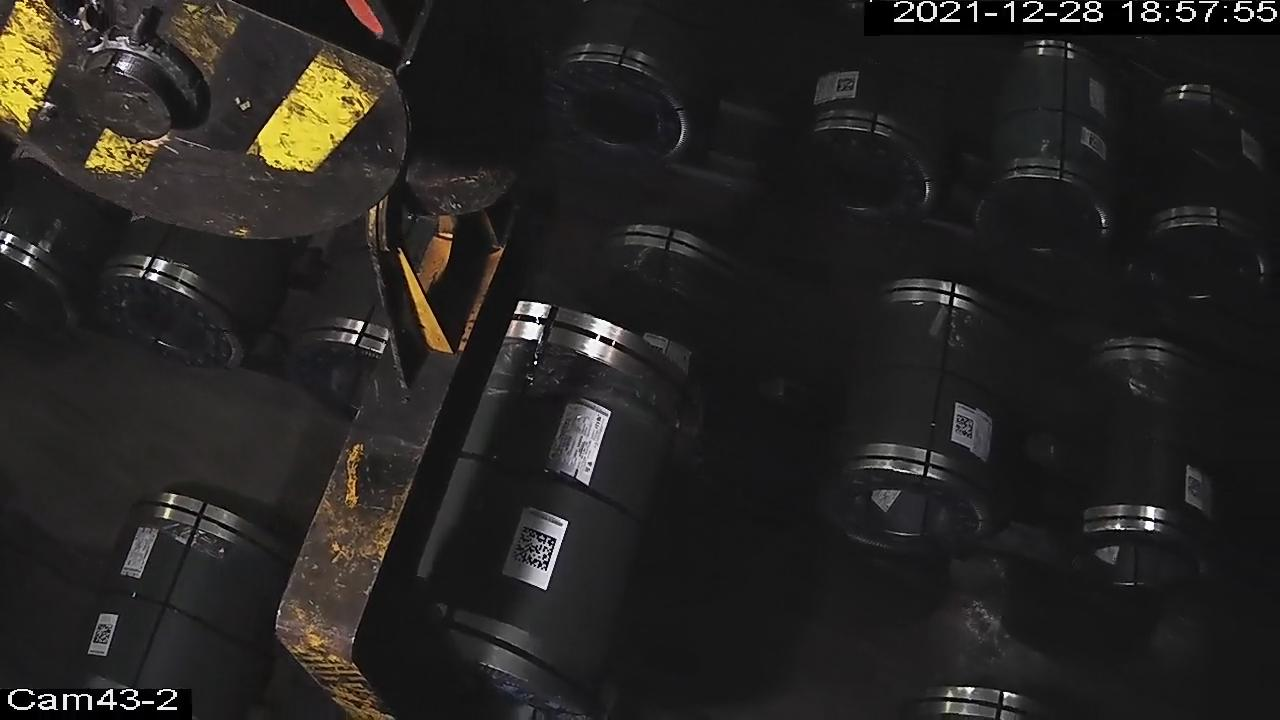data matrix: (510, 523, 560, 577), (91, 622, 117, 649), (954, 413, 977, 443), (1187, 474, 1208, 502), (835, 76, 858, 94), (1089, 133, 1106, 157)
